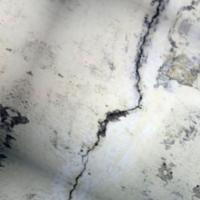crack: (62, 3, 147, 199)
